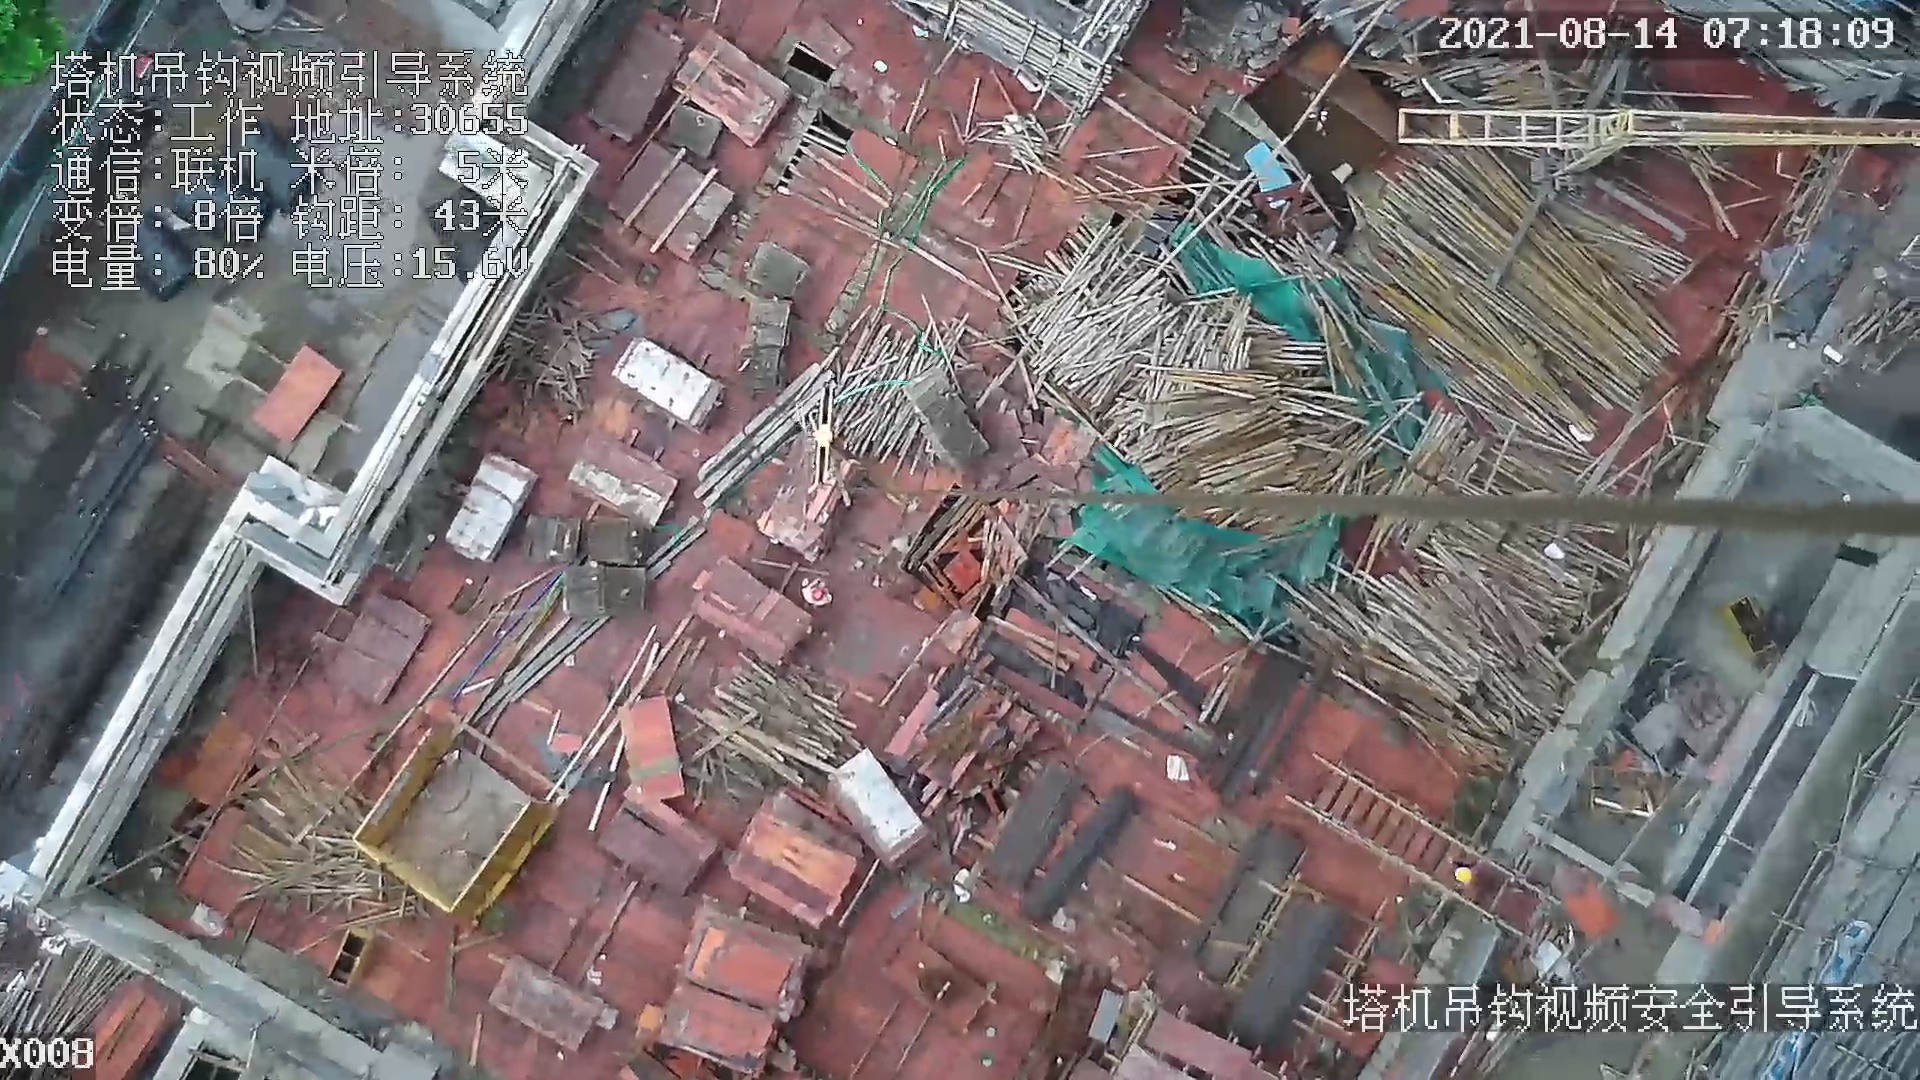helmet: (810, 586, 829, 601)
hook: (801, 382, 845, 497)
person: (801, 574, 832, 609)
